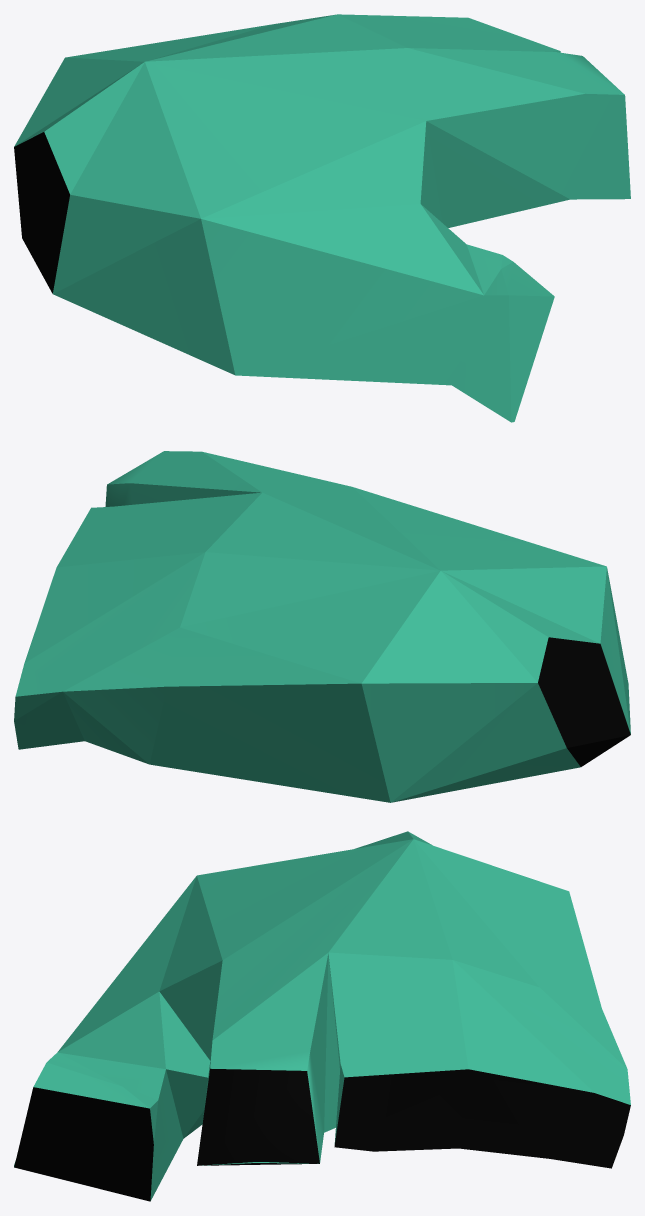
File: gloves.Miami.fbx
The picture shows the model from 3 angles, top to bottom: view 1: azimuth 30°, elevation 25°; view 2: azimuth 150°, elevation 25°; view 3: azimuth 270°, elevation 25°; orthographic projection. The views are drawn at different scales.
Visible parts, largest first — view 1: miami.glove; view 2: miami.glove; view 3: miami.glove.
Part boxes in pixels (box(x1,y1,x2,y2)): miami.glove: box(14, 14, 630, 422); miami.glove: box(14, 451, 630, 802); miami.glove: box(14, 831, 630, 1201).
Size of the model in its own units: 17.18 by 8.44 by 17.81.
